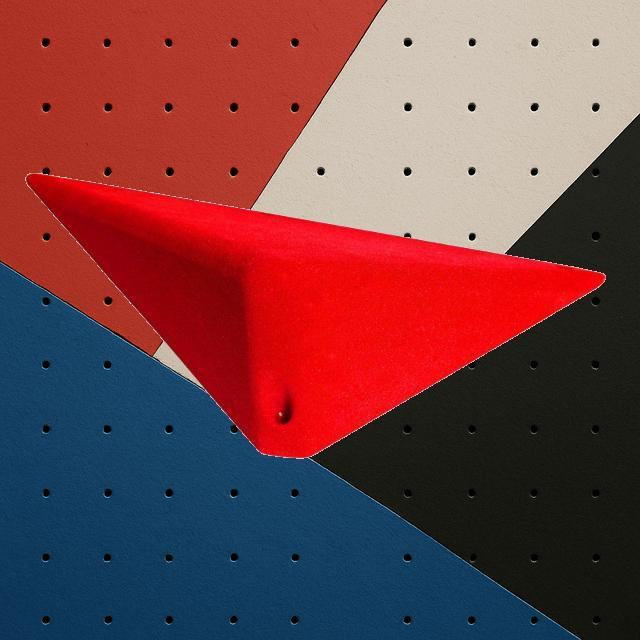Crimp: (26, 170, 606, 458)
